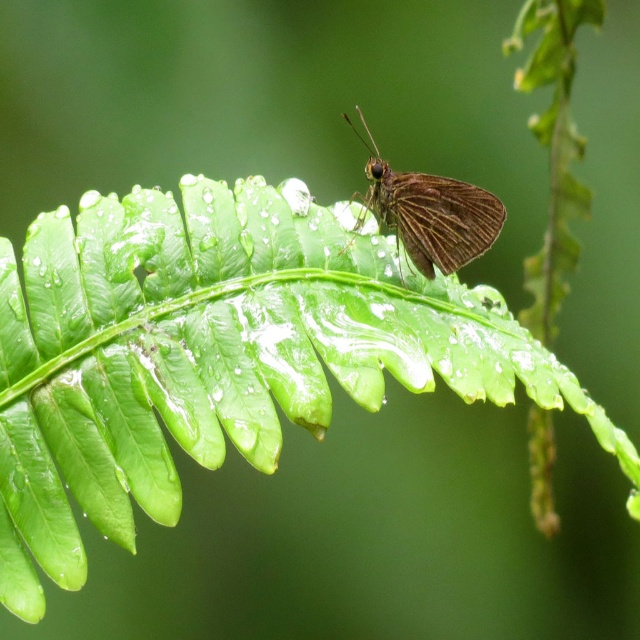Butterfly: (338, 102, 511, 286)
